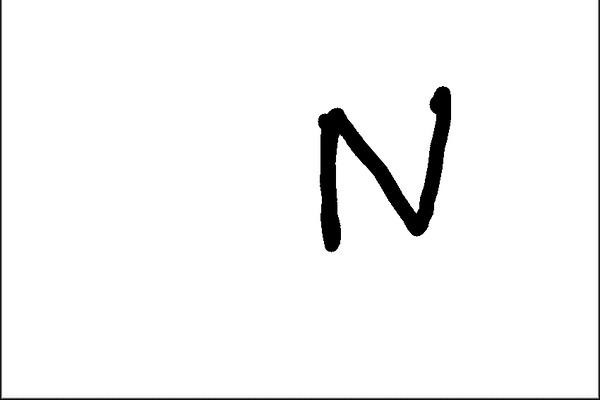N: (309, 81, 456, 257)
